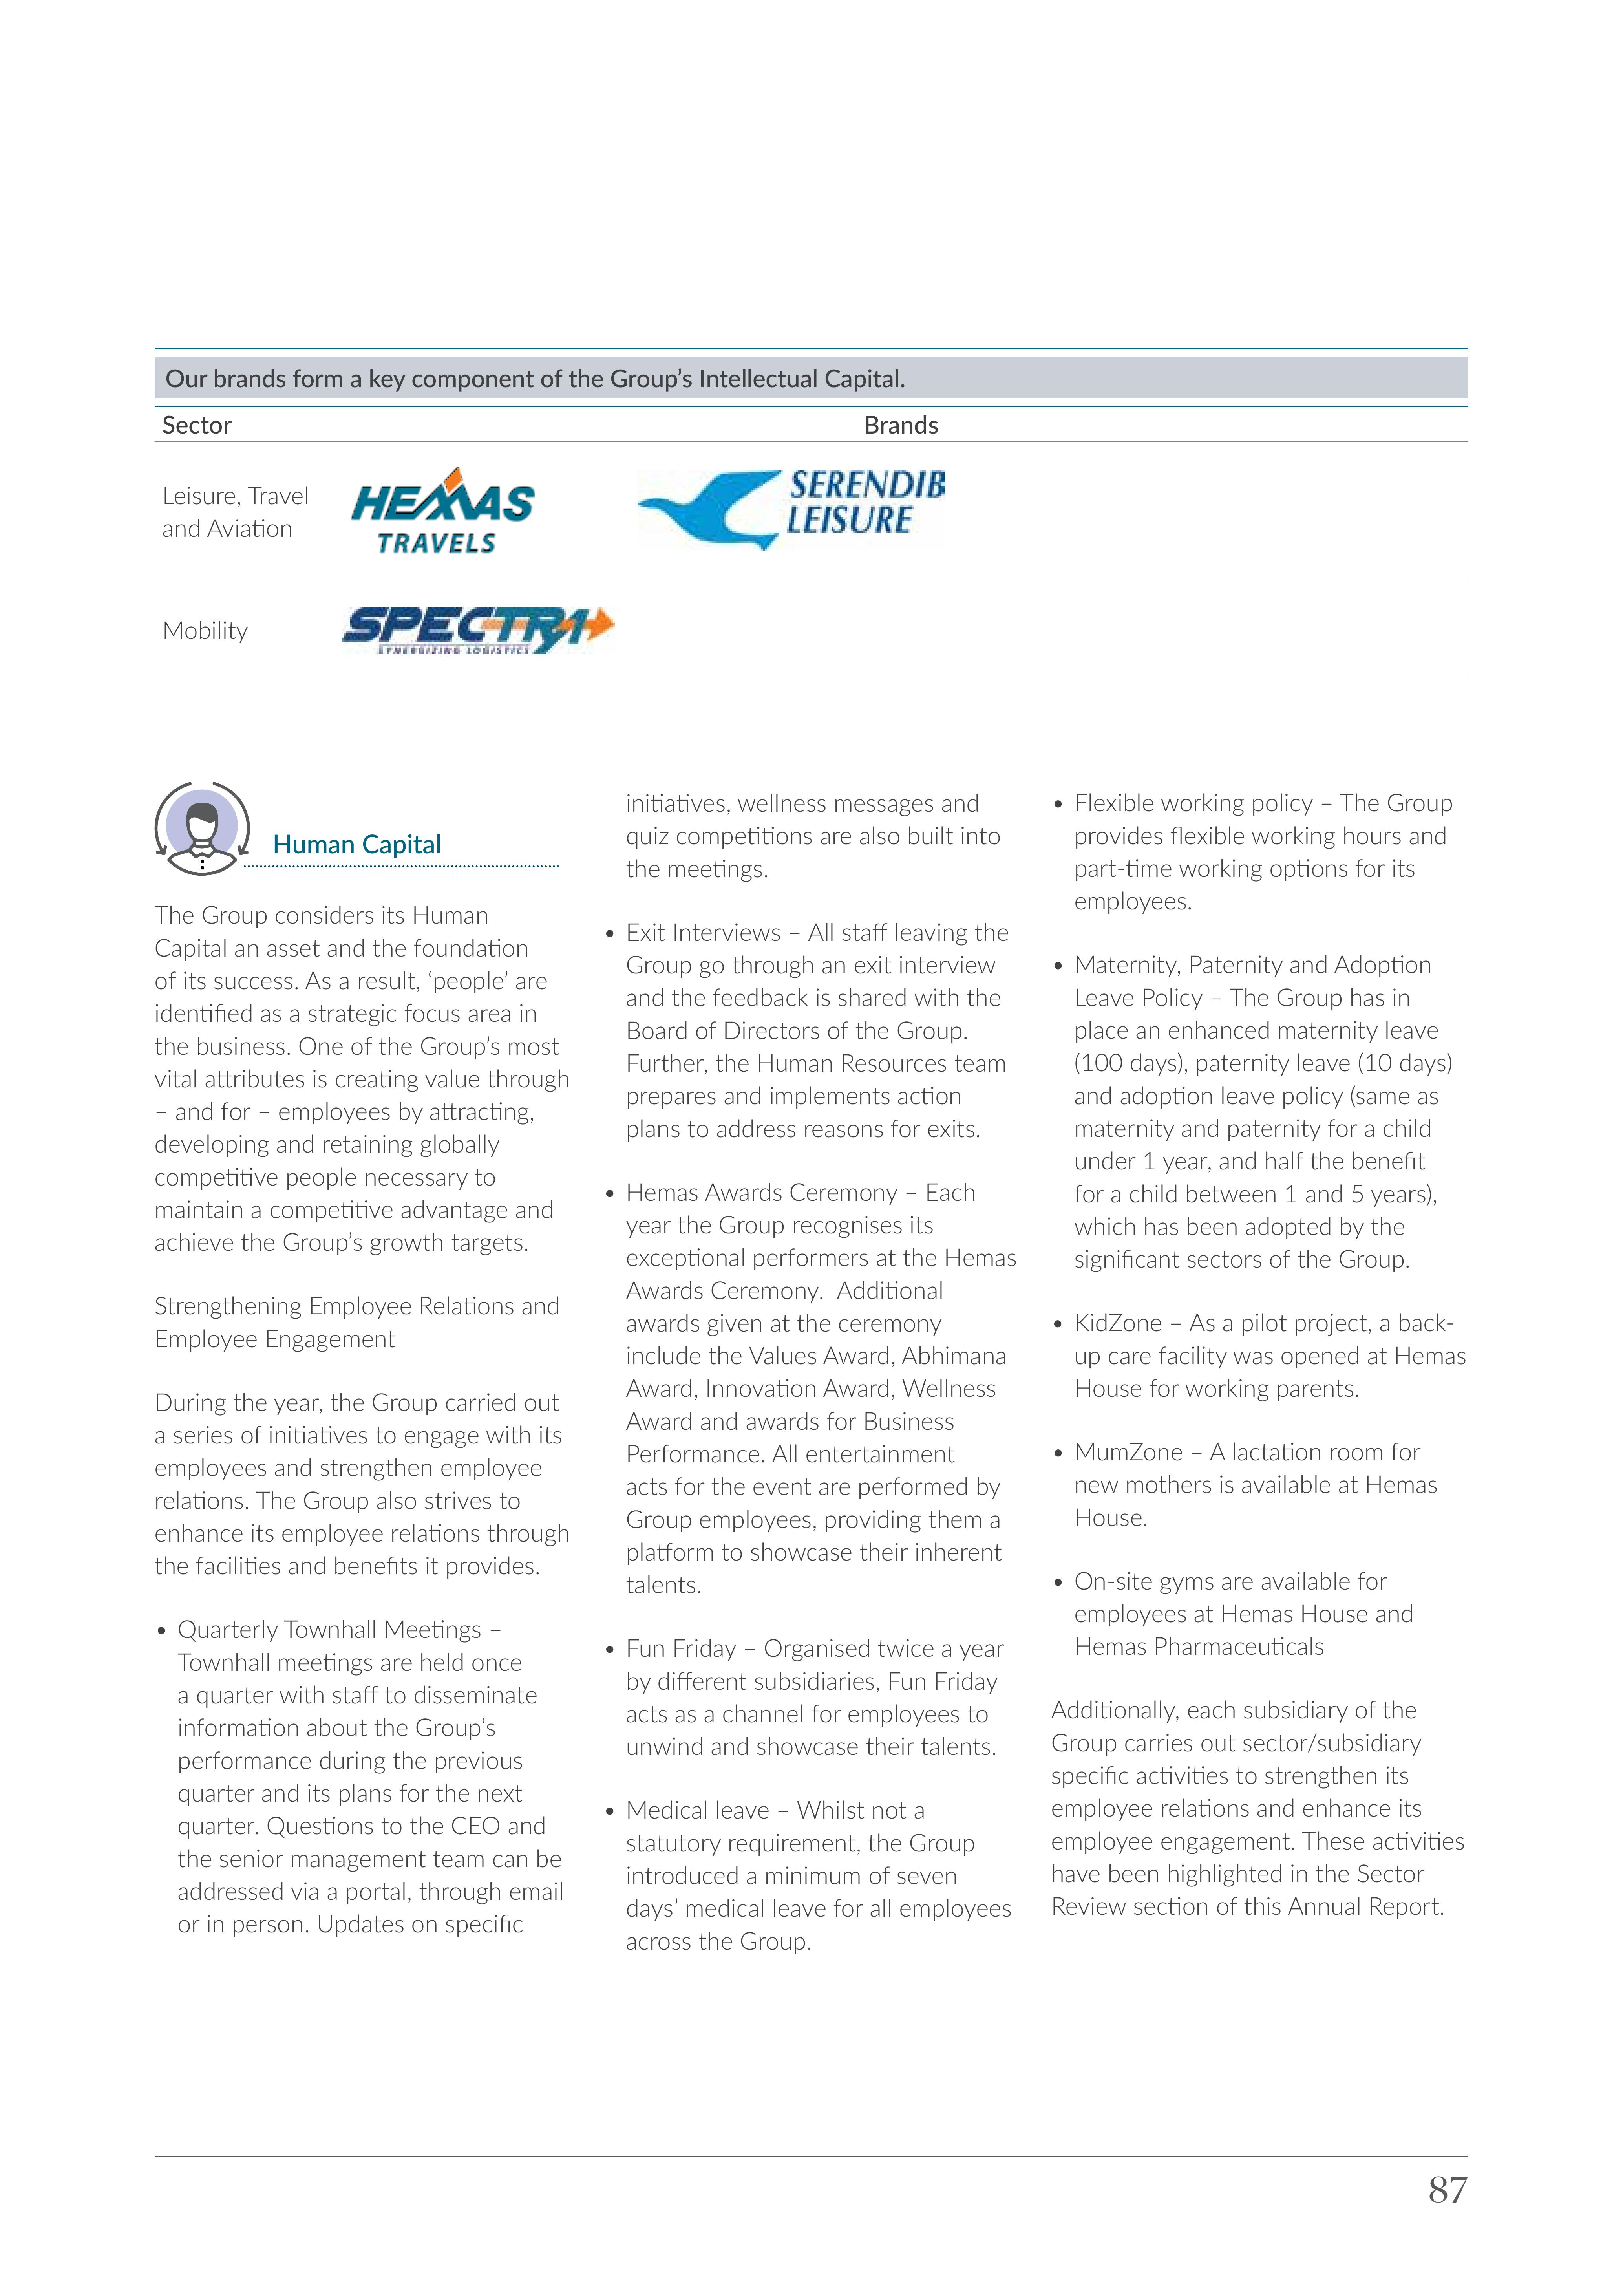table: (141, 334, 1481, 692)
